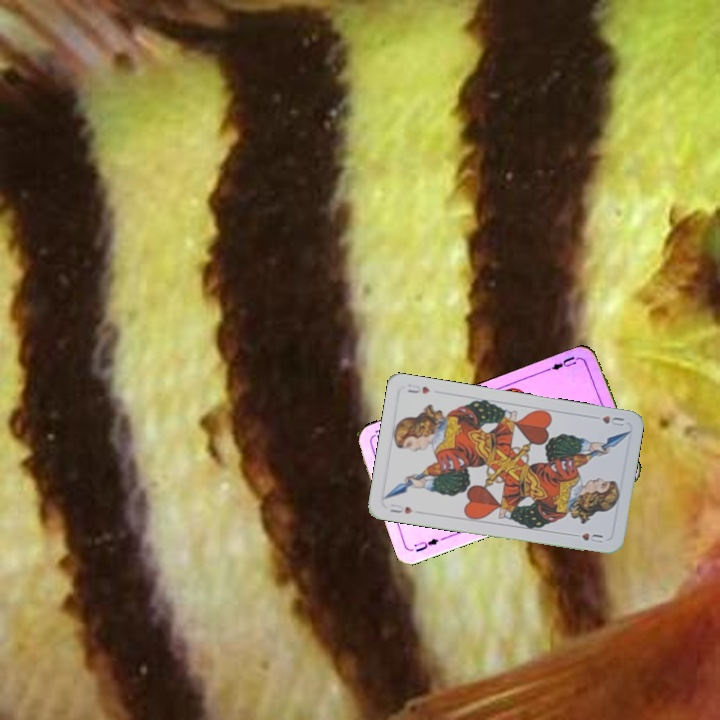EU: (544, 352, 584, 373), (410, 534, 441, 555)
HU: (598, 412, 626, 429), (386, 500, 415, 516)
